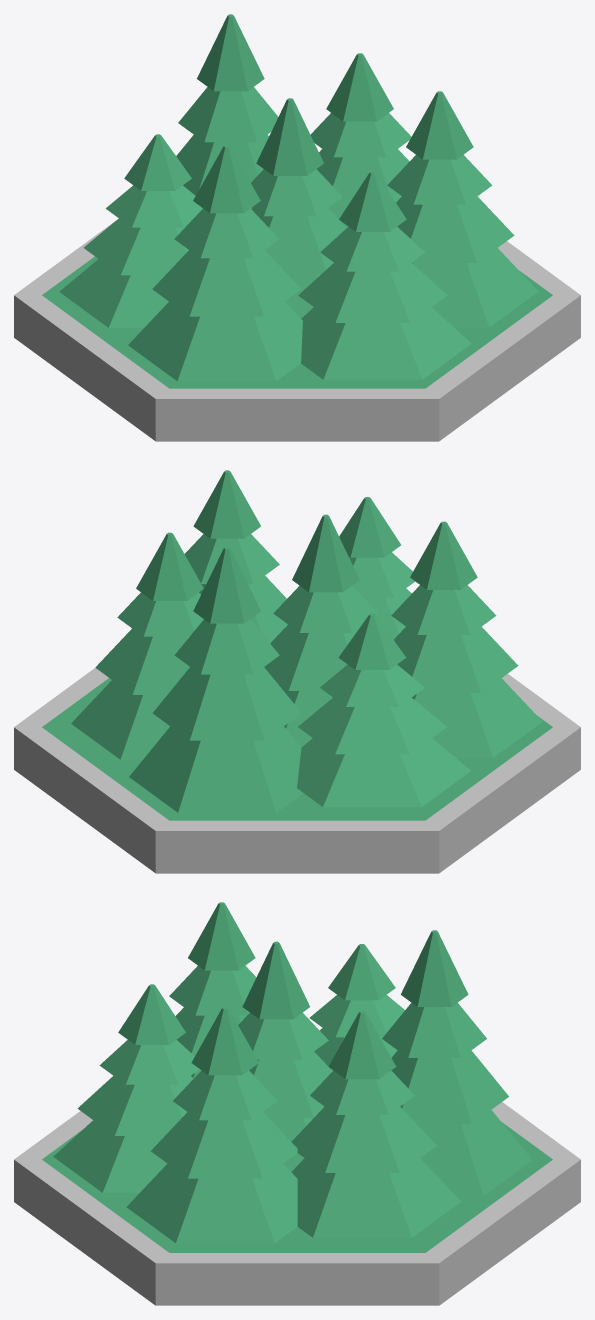
File: TileForest.fbx
3 renders of one model, top to bottom at view 1: azimuth 30°, elevation 25°; view 2: azimuth 150°, elevation 25°; view 3: azimuth 270°, elevation 25°, orthographic.
Parts seen in each view (by area): view 1: TileBlocked_2; view 2: TileBlocked_2; view 3: TileBlocked_2.
Boxes of the visible parts, box(x1,y1,x2,y2) form: TileBlocked_2: box(14, 14, 580, 441); TileBlocked_2: box(14, 470, 580, 873); TileBlocked_2: box(14, 902, 580, 1305).
Size of the model in its own units: 238 by 145 by 275.
